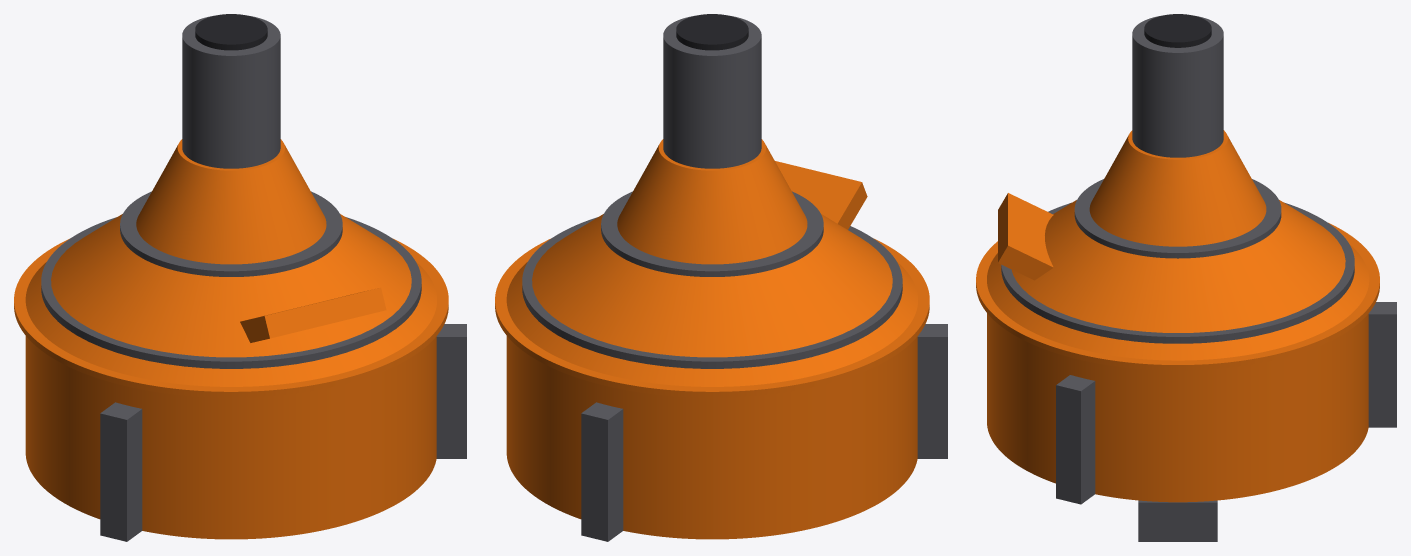
The model's file is planetary-mixer-500l.glb.
3 renders of one model, left to right at view 1: azimuth 30°, elevation 25°; view 2: azimuth 150°, elevation 25°; view 3: azimuth 270°, elevation 25°, orthographic. The views are drawn at different scales.
Parts seen in each view (by area): view 1: gearbox_5702c4, water_ring_7807a2, fan_cap_32d85b; view 2: gearbox_5702c4, water_ring_7807a2, fan_cap_32d85b; view 3: gearbox_5702c4, water_ring_7807a2, fan_cap_32d85b.
Boxes of the visible parts, x1,y1,x2,y2 form: gearbox_5702c4: (14, 139, 448, 539); water_ring_7807a2: (41, 15, 466, 541); fan_cap_32d85b: (195, 14, 267, 50); gearbox_5702c4: (495, 139, 929, 539); water_ring_7807a2: (522, 15, 947, 541); fan_cap_32d85b: (676, 14, 748, 50); gearbox_5702c4: (976, 130, 1379, 502); water_ring_7807a2: (1001, 15, 1396, 541); fan_cap_32d85b: (1144, 14, 1211, 47).
Bounding box in the file's own units: 1.68 × 1.98 × 1.75.
